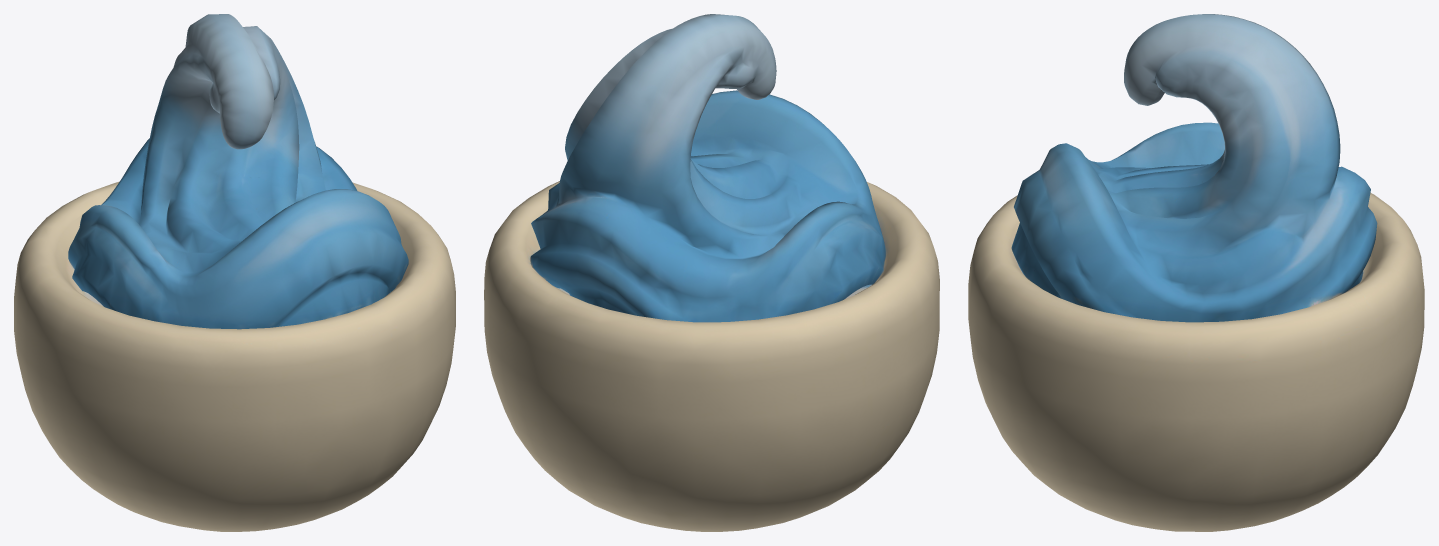
The model's file is glow-bowl.glb.
3 views of the same model, side by side, from view 1: azimuth 30°, elevation 25°; view 2: azimuth 150°, elevation 25°; view 3: azimuth 270°, elevation 25° (orthographic). The views are drawn at different scales.
Parts seen in each view (by area): view 1: tripo_node_09312a30-15db-4ce6-9afa-7ba7f6b7b938; view 2: tripo_node_09312a30-15db-4ce6-9afa-7ba7f6b7b938; view 3: tripo_node_09312a30-15db-4ce6-9afa-7ba7f6b7b938.
Boxes of the visible parts, box(x1,y1,x2,y2) form: tripo_node_09312a30-15db-4ce6-9afa-7ba7f6b7b938: box(14, 14, 455, 531); tripo_node_09312a30-15db-4ce6-9afa-7ba7f6b7b938: box(484, 14, 939, 531); tripo_node_09312a30-15db-4ce6-9afa-7ba7f6b7b938: box(968, 14, 1424, 531).
Size of the model in its own units: 0.8622 by 0.9995 by 0.8611.
1 material, 1 textured.
